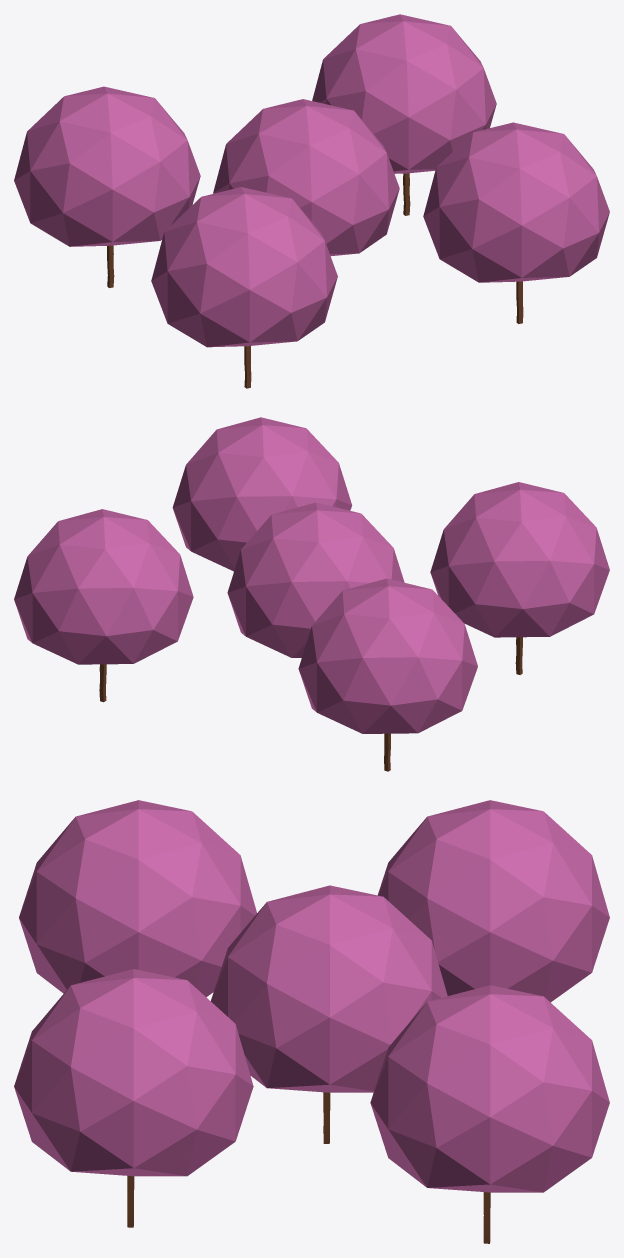
The model's file is 회전초.fbx.
3 views of the same model, one above another, from view 1: azimuth 30°, elevation 25°; view 2: azimuth 150°, elevation 25°; view 3: azimuth 270°, elevation 25° (orthographic). The views are drawn at different scales.
Visible parts, largest first — view 1: GeoSphere002; view 2: GeoSphere002; view 3: GeoSphere002.
Boxes of the visible parts, x1=… form: GeoSphere002: x1=14, y1=14, x2=609, y2=388; GeoSphere002: x1=14, y1=417, x2=609, y2=771; GeoSphere002: x1=14, y1=800, x2=609, y2=1243.
Size of the model in its own units: 355 by 145 by 318.
